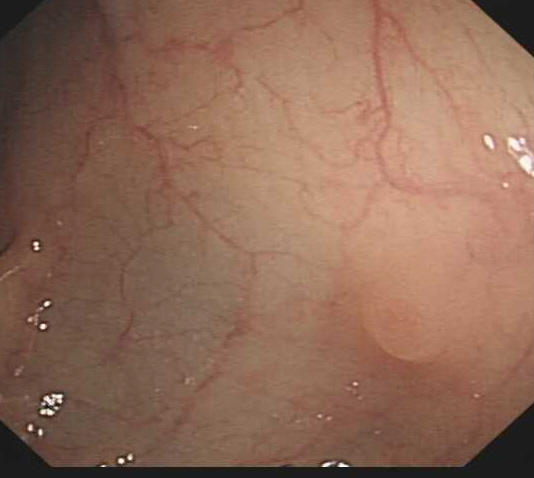others: (355, 277, 450, 366)
